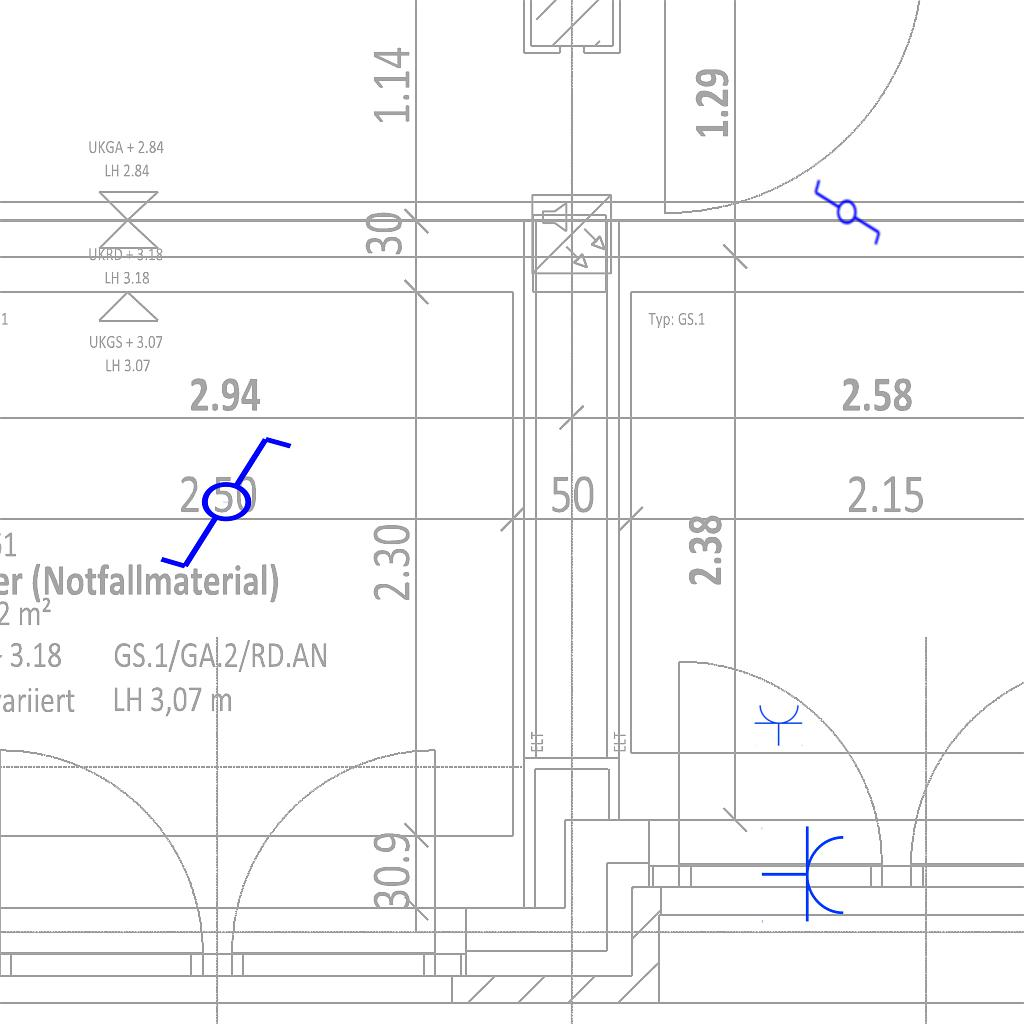Schukosteckdose_einfach: (761, 825, 848, 925), (754, 703, 804, 746)
Wechselschalter: (156, 432, 313, 576), (812, 169, 884, 247)
